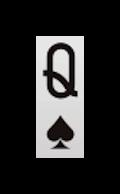QS: (39, 40, 81, 153)
